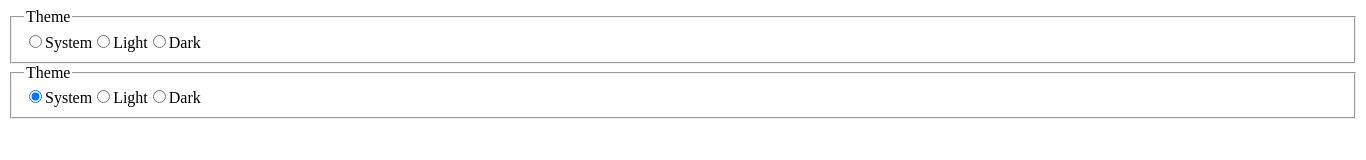
Test case: ThemeToggle › keeps two toggles in sync
Click the 1st radio button labelled "Dark" at (159, 41), box [153,35,166,48]
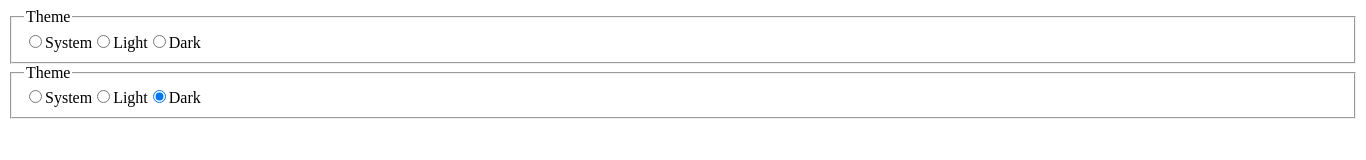
Result: the 2nd radio button labelled "Dark" is checked at [153,90,166,103]
